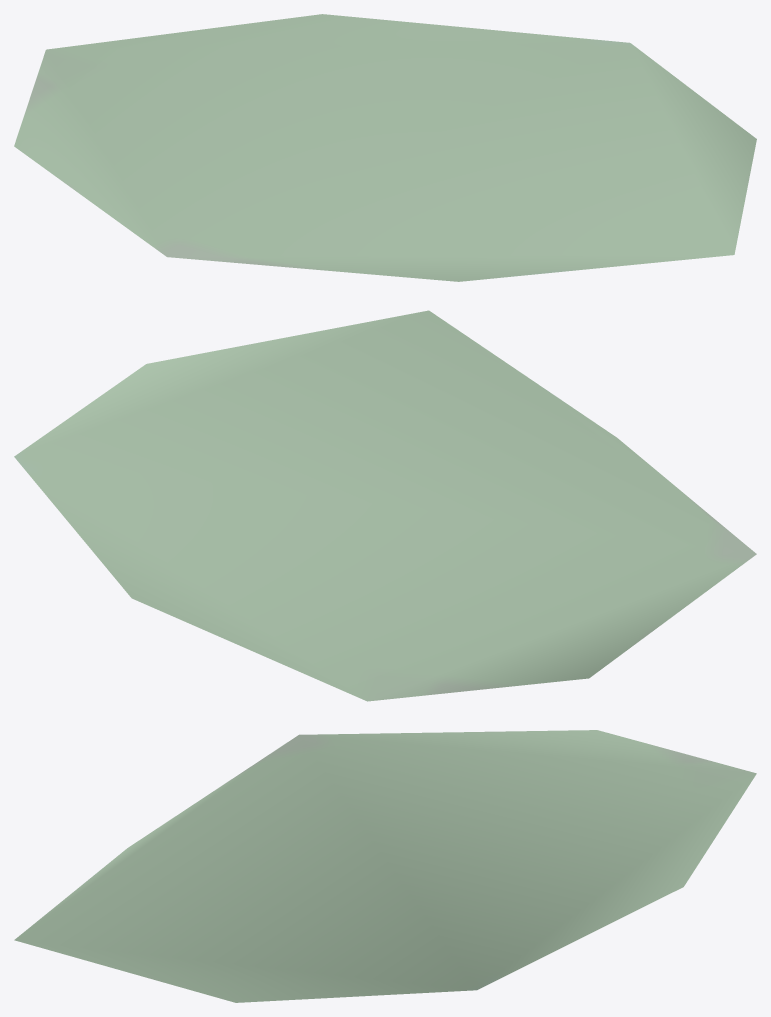
File: TROLLHOLE02_HOLECAP133.fbx
The picture shows the model from 3 angles, top to bottom: view 1: azimuth 30°, elevation 25°; view 2: azimuth 150°, elevation 25°; view 3: azimuth 270°, elevation 25°; orthographic projection. The views are drawn at different scales.
Visible parts, largest first — view 1: TROLLHOLE02_HOLECAP133; view 2: TROLLHOLE02_HOLECAP133; view 3: TROLLHOLE02_HOLECAP133.
Boxes of the visible parts, left/top/right/bottom form: TROLLHOLE02_HOLECAP133: left=14, top=14, right=756, bottom=281; TROLLHOLE02_HOLECAP133: left=14, top=310, right=756, bottom=701; TROLLHOLE02_HOLECAP133: left=14, top=730, right=756, bottom=1002.
Bounding box in the file's own units: 21322 × 1091 × 24346.
1 material, 1 textured.
